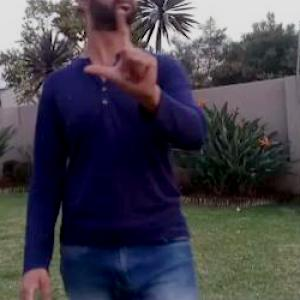land_hand: (81, 5, 160, 95)
